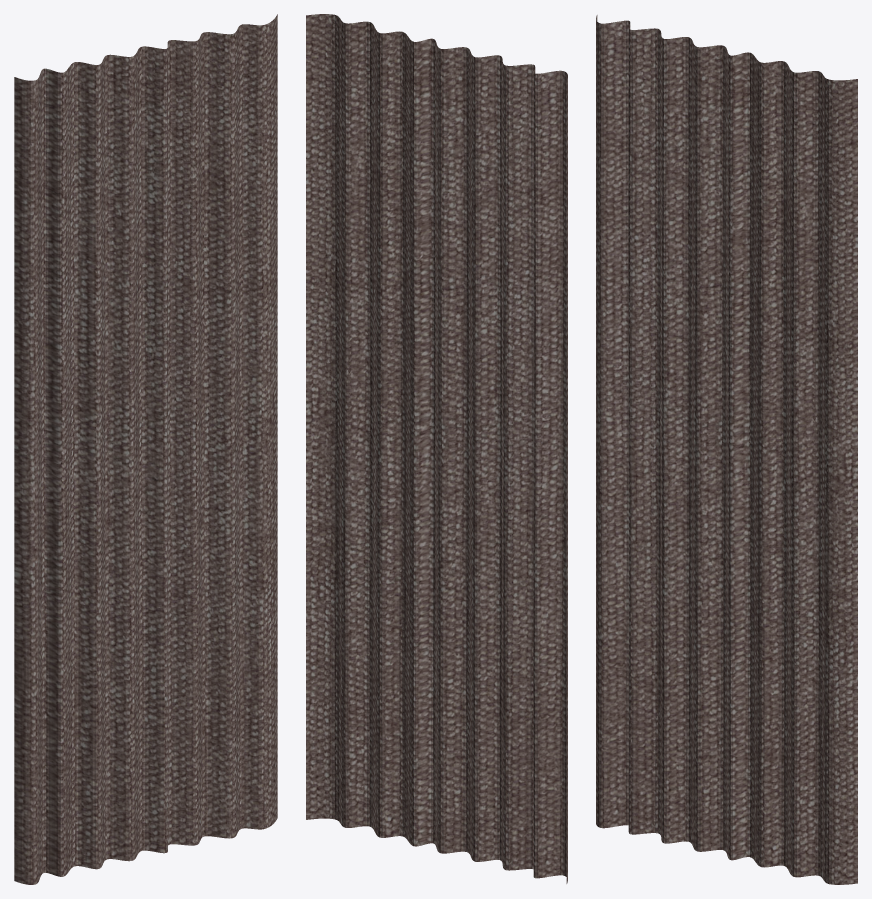
File: curtains.FBX
3 views of the same model, side by side, from view 1: azimuth 30°, elevation 25°; view 2: azimuth 150°, elevation 25°; view 3: azimuth 330°, elevation 25° (orthographic).
Visible parts, largest first — view 1: curtains; view 2: curtains; view 3: curtains.
Boxes of the visible parts, x1=… form: curtains: x1=14, y1=14, x2=277, y2=884; curtains: x1=306, y1=14, x2=567, y2=883; curtains: x1=596, y1=15, x2=857, y2=884.
Bounding box in the file's own units: 110 × 322 × 8.42.
Materials: 1 (1 with a texture image).
